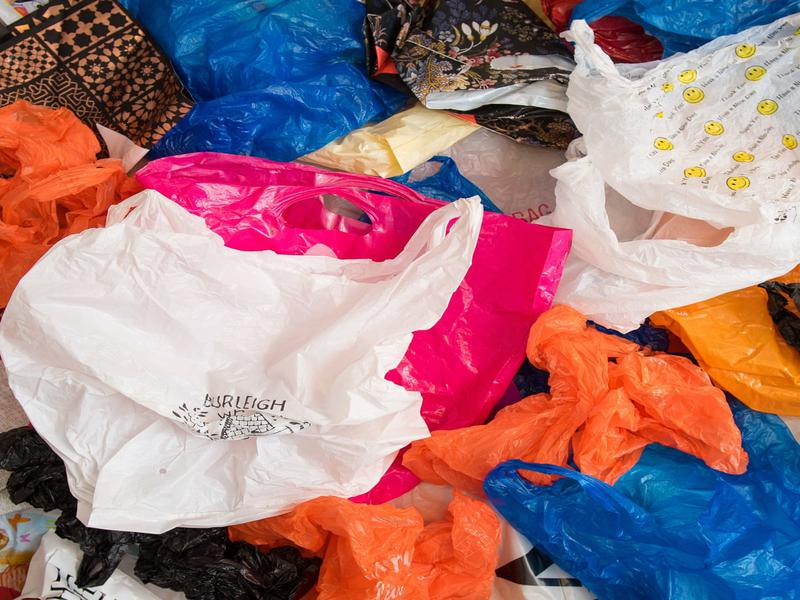plastic: (1, 186, 488, 536), (533, 11, 800, 333), (397, 303, 751, 483), (473, 409, 800, 600), (116, 1, 397, 161), (220, 488, 507, 600), (1, 101, 127, 298), (634, 287, 800, 412)
